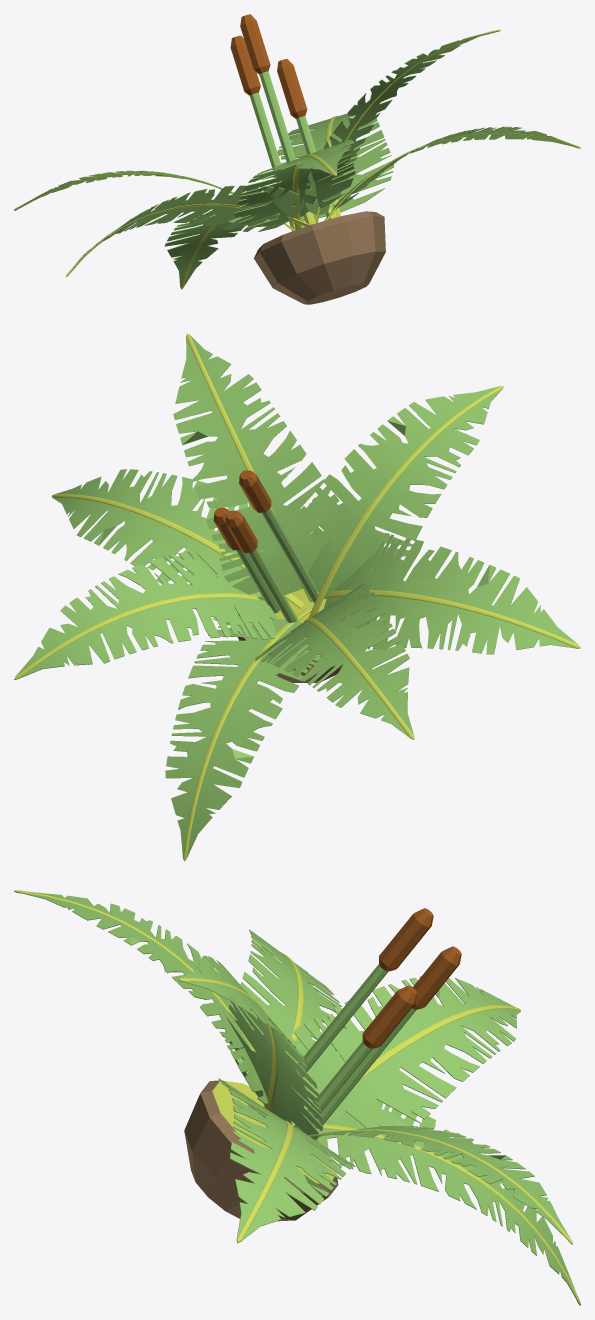
File: Krzak2.fbx
3 views of the same model, one above another, from view 1: azimuth 30°, elevation 25°; view 2: azimuth 150°, elevation 25°; view 3: azimuth 270°, elevation 25° (orthographic). The views are drawn at different scales.
Visible parts, largest first — view 1: kRZAK_2; view 2: kRZAK_2; view 3: kRZAK_2.
Boxes of the visible parts, x1,y1,x2,y2 form: kRZAK_2: (14, 14, 580, 304); kRZAK_2: (14, 333, 580, 861); kRZAK_2: (14, 890, 580, 1305).
Size of the model in its own units: 340 by 218 by 265.
